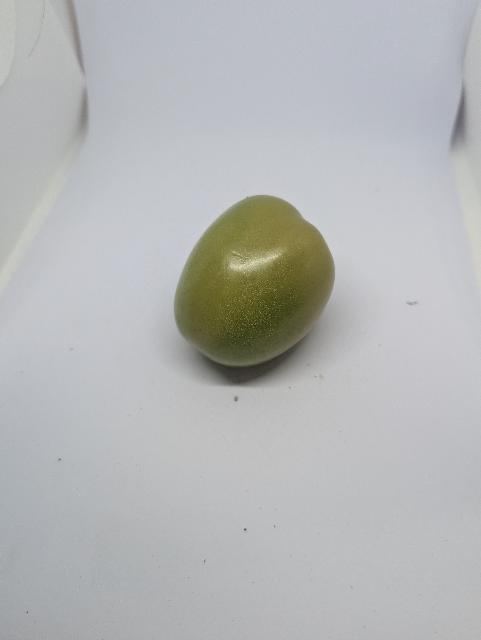green: (172, 193, 338, 369)
